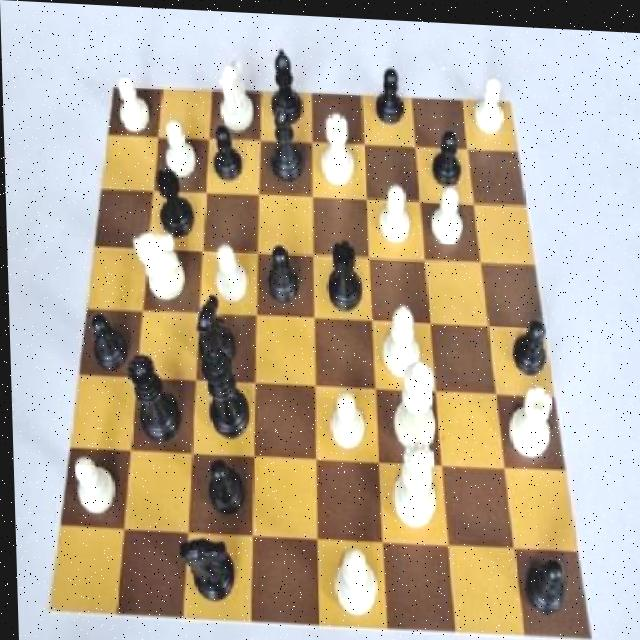bishop: (263, 38, 308, 128), (265, 98, 309, 184)
black-bishop: (192, 331, 259, 442)
black-king: (171, 525, 237, 612), (185, 287, 239, 375)
black-knight: (520, 536, 571, 617), (195, 449, 250, 517), (504, 303, 553, 379), (426, 115, 472, 186), (82, 308, 129, 375), (261, 233, 303, 306), (206, 116, 249, 182), (370, 57, 409, 129)
black-pawn: (118, 348, 185, 449)
black-queen: (320, 230, 368, 314), (152, 160, 199, 238)
black-rook: (326, 534, 378, 615), (377, 292, 423, 378)
white-bishop: (388, 351, 440, 454)
white-king: (123, 220, 191, 307), (210, 50, 258, 136)
white-knight: (67, 442, 117, 520), (205, 233, 255, 306), (324, 382, 370, 455), (373, 173, 417, 247), (425, 172, 469, 246), (158, 112, 201, 185), (111, 72, 154, 138), (470, 66, 509, 136)
white-pawn: (385, 426, 443, 534)
white-queen: (502, 368, 559, 459), (318, 102, 359, 194)
